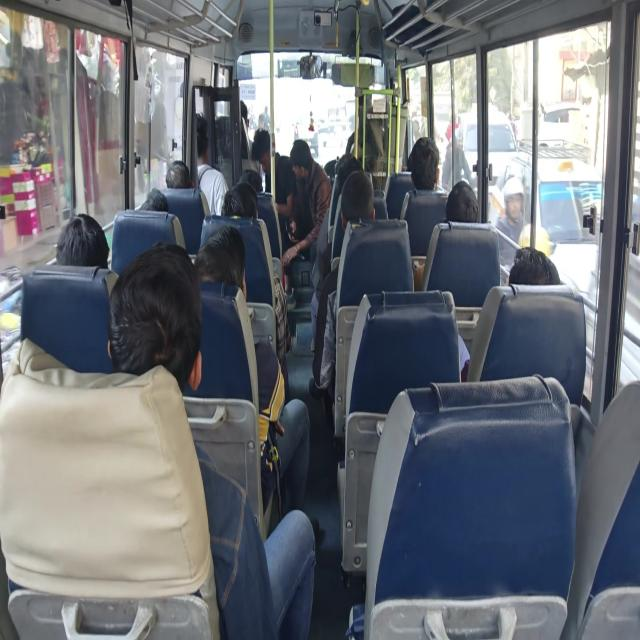person: (108, 240, 316, 638), (194, 224, 311, 519), (220, 180, 291, 400), (309, 169, 375, 401), (108, 240, 202, 395), (458, 245, 560, 381), (412, 179, 479, 290), (282, 138, 331, 268), (251, 128, 296, 218), (195, 112, 228, 216), (56, 212, 110, 268), (495, 175, 527, 268), (508, 246, 560, 286), (406, 136, 441, 190), (445, 180, 479, 222), (221, 181, 258, 218), (165, 160, 192, 188), (138, 188, 168, 211), (236, 168, 263, 192)
